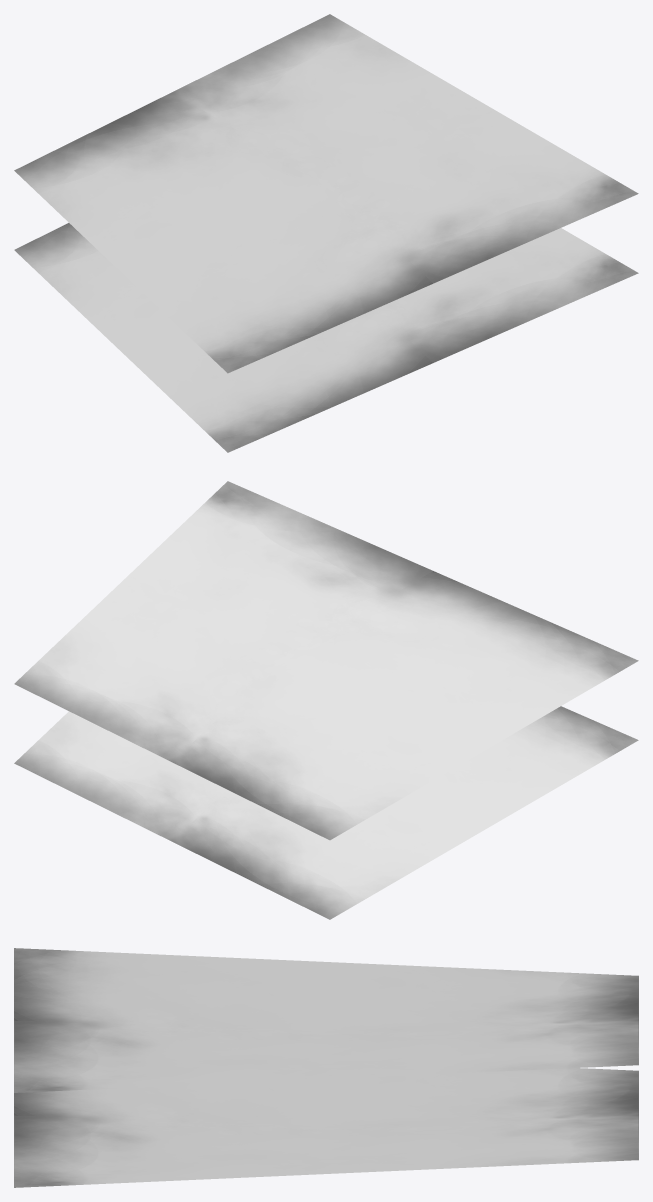
The model's file is CourseWinter_CurveFloor_8_8.fbx.
3 views of the same model, one above another, from view 1: azimuth 30°, elevation 25°; view 2: azimuth 150°, elevation 25°; view 3: azimuth 270°, elevation 25° (orthographic). The views are drawn at different scales.
Visible parts, largest first — view 1: polySurface718; view 2: polySurface718; view 3: polySurface718.
Boxes of the visible parts, x1,y1,x2,y2 form: polySurface718: (14,14,638,452); polySurface718: (14,481,638,919); polySurface718: (14,948,638,1187).
Size of the model in its own units: 5.42 by 2 by 5.97.
Materials: 1 (1 with a texture image).
